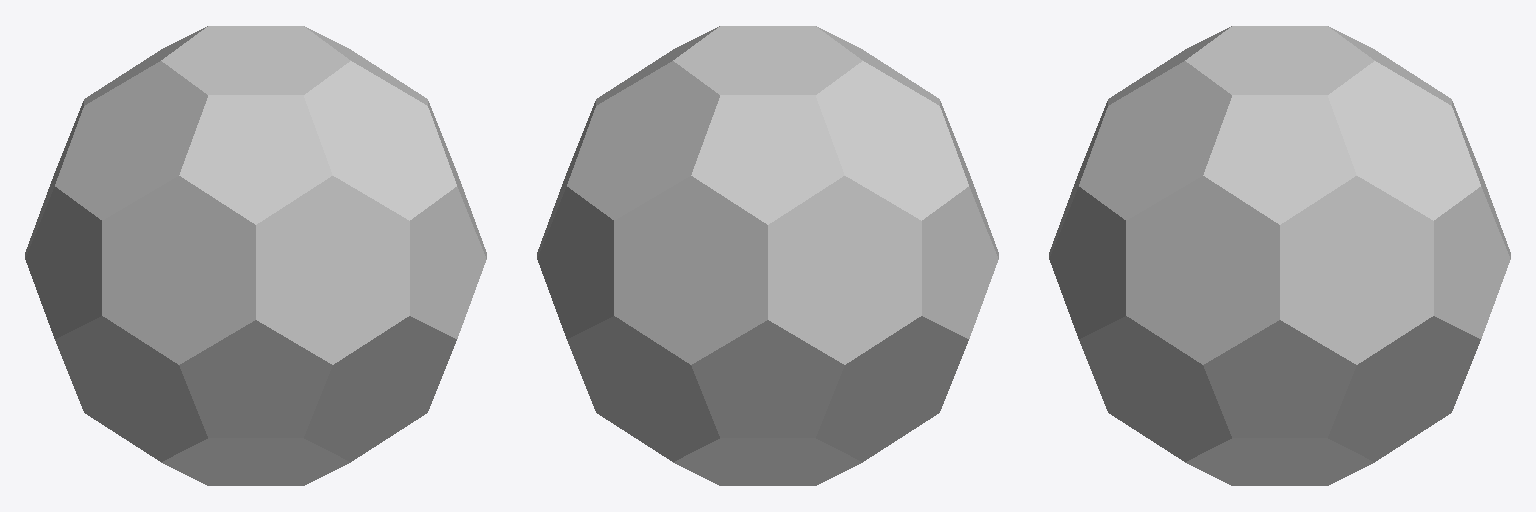
Rendered from HexShapeA.obj.
3 renders of one model, left to right at view 1: azimuth 30°, elevation 25°; view 2: azimuth 150°, elevation 25°; view 3: azimuth 270°, elevation 25°, orthographic.
Visible parts, largest first — view 1: HexShape_GD_mesh; view 2: HexShape_GD_mesh; view 3: HexShape_GD_mesh.
Boxes of the visible parts, box(x1,y1,x2,y2) form: HexShape_GD_mesh: box(25, 26, 486, 485); HexShape_GD_mesh: box(537, 26, 998, 485); HexShape_GD_mesh: box(1049, 26, 1510, 485).
Size of the model in its own units: 1.03 by 0.9516 by 1.02.